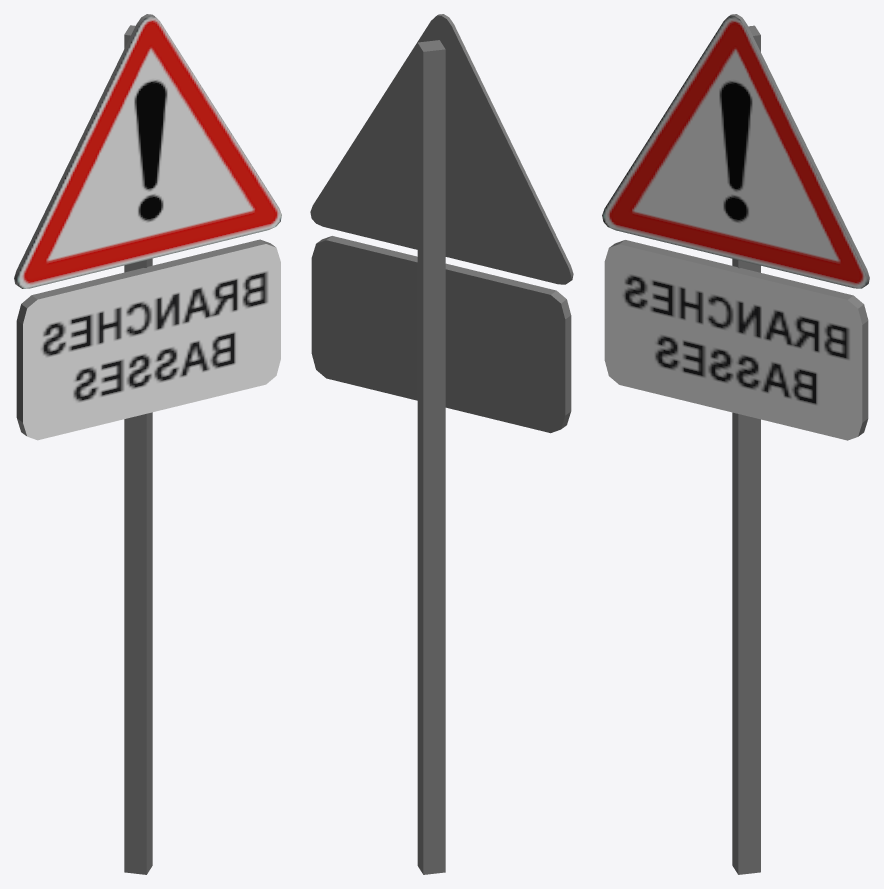
File: LowBranches.obj
3 views of the same model, side by side, from view 1: azimuth 30°, elevation 25°; view 2: azimuth 150°, elevation 25°; view 3: azimuth 330°, elevation 25° (orthographic).
Visible parts, largest first — view 1: Sign_LowBranch; view 2: Sign_LowBranch; view 3: Sign_LowBranch.
Boxes of the visible parts, <box> form: Sign_LowBranch: <box>14,14,281,874</box>; Sign_LowBranch: <box>310,14,573,874</box>; Sign_LowBranch: <box>602,14,869,874</box>.
Size of the model in its own units: 1.47 by 4.57 by 0.2067.
1 material, 1 textured.
